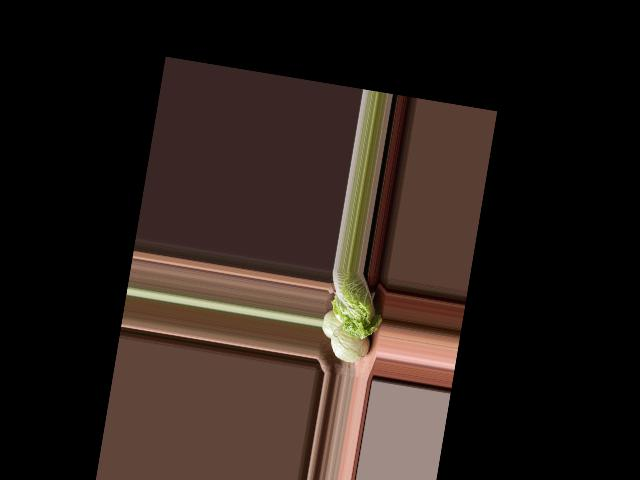lettuce: (324, 270, 389, 341)
